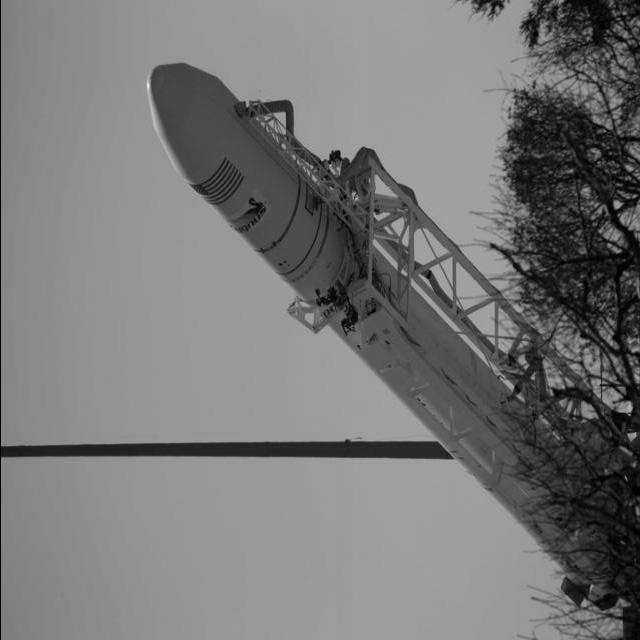missile: (82, 24, 640, 638)
